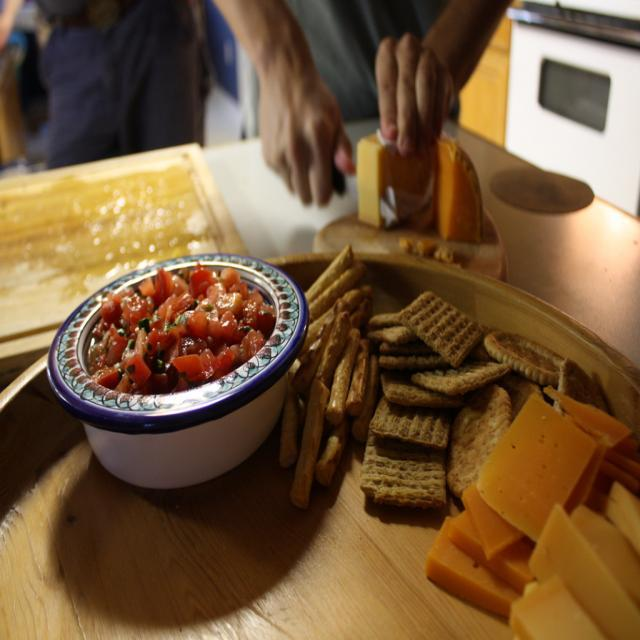Cheese: (423, 384, 640, 619), (504, 476, 640, 639), (353, 129, 485, 243)
